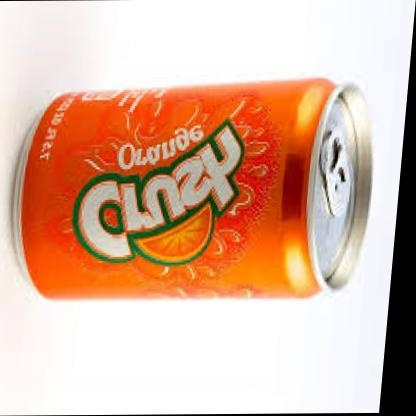trash: (16, 79, 370, 298)
